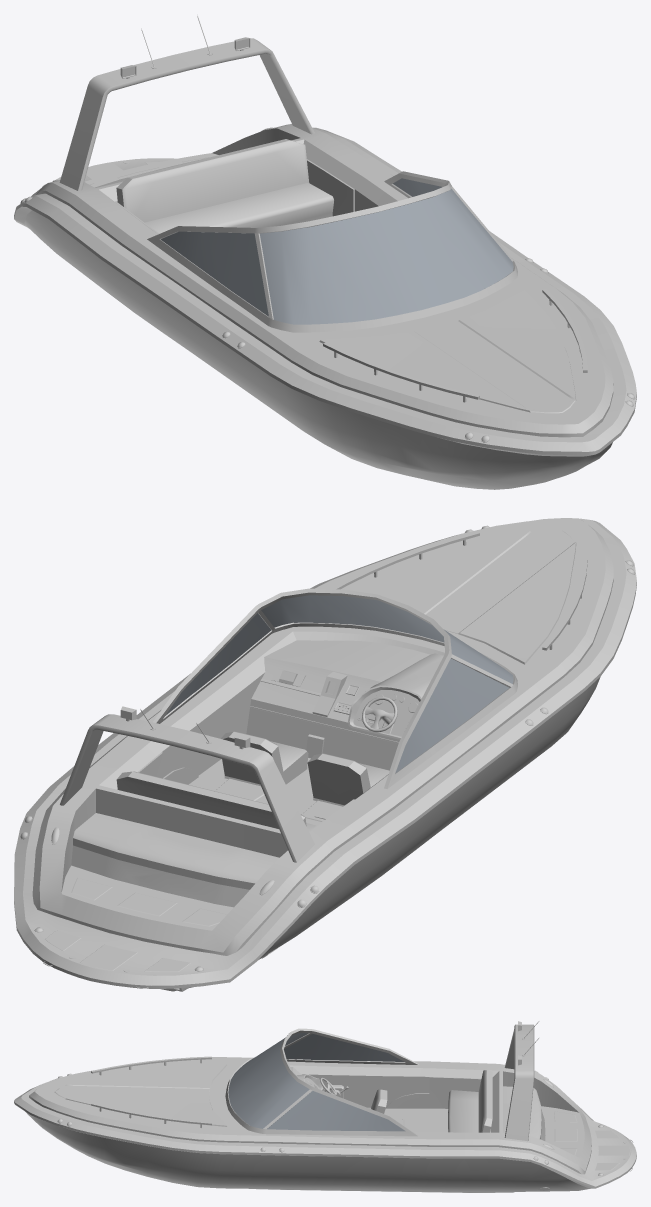
Rendered from TestBoat3.fbx.
The picture shows the model from 3 angles, top to bottom: view 1: azimuth 30°, elevation 25°; view 2: azimuth 150°, elevation 25°; view 3: azimuth 270°, elevation 25°; orthographic projection. The views are drawn at different scales.
Visible parts, largest first — view 1: Motorboat, Motorboat.001; view 2: Motorboat, Motorboat.001; view 3: Motorboat, Motorboat.001.
Part boxes in pixels (<box>): Motorboat: <box>14,15,636,489</box>; Motorboat.001: <box>161,178,513,324</box>; Motorboat: <box>14,518,636,991</box>; Motorboat.001: <box>165,595,513,773</box>; Motorboat: <box>14,1021,636,1192</box>; Motorboat.001: <box>228,1033,405,1131</box>.
Size of the model in its own units: 357 by 271 by 996.
